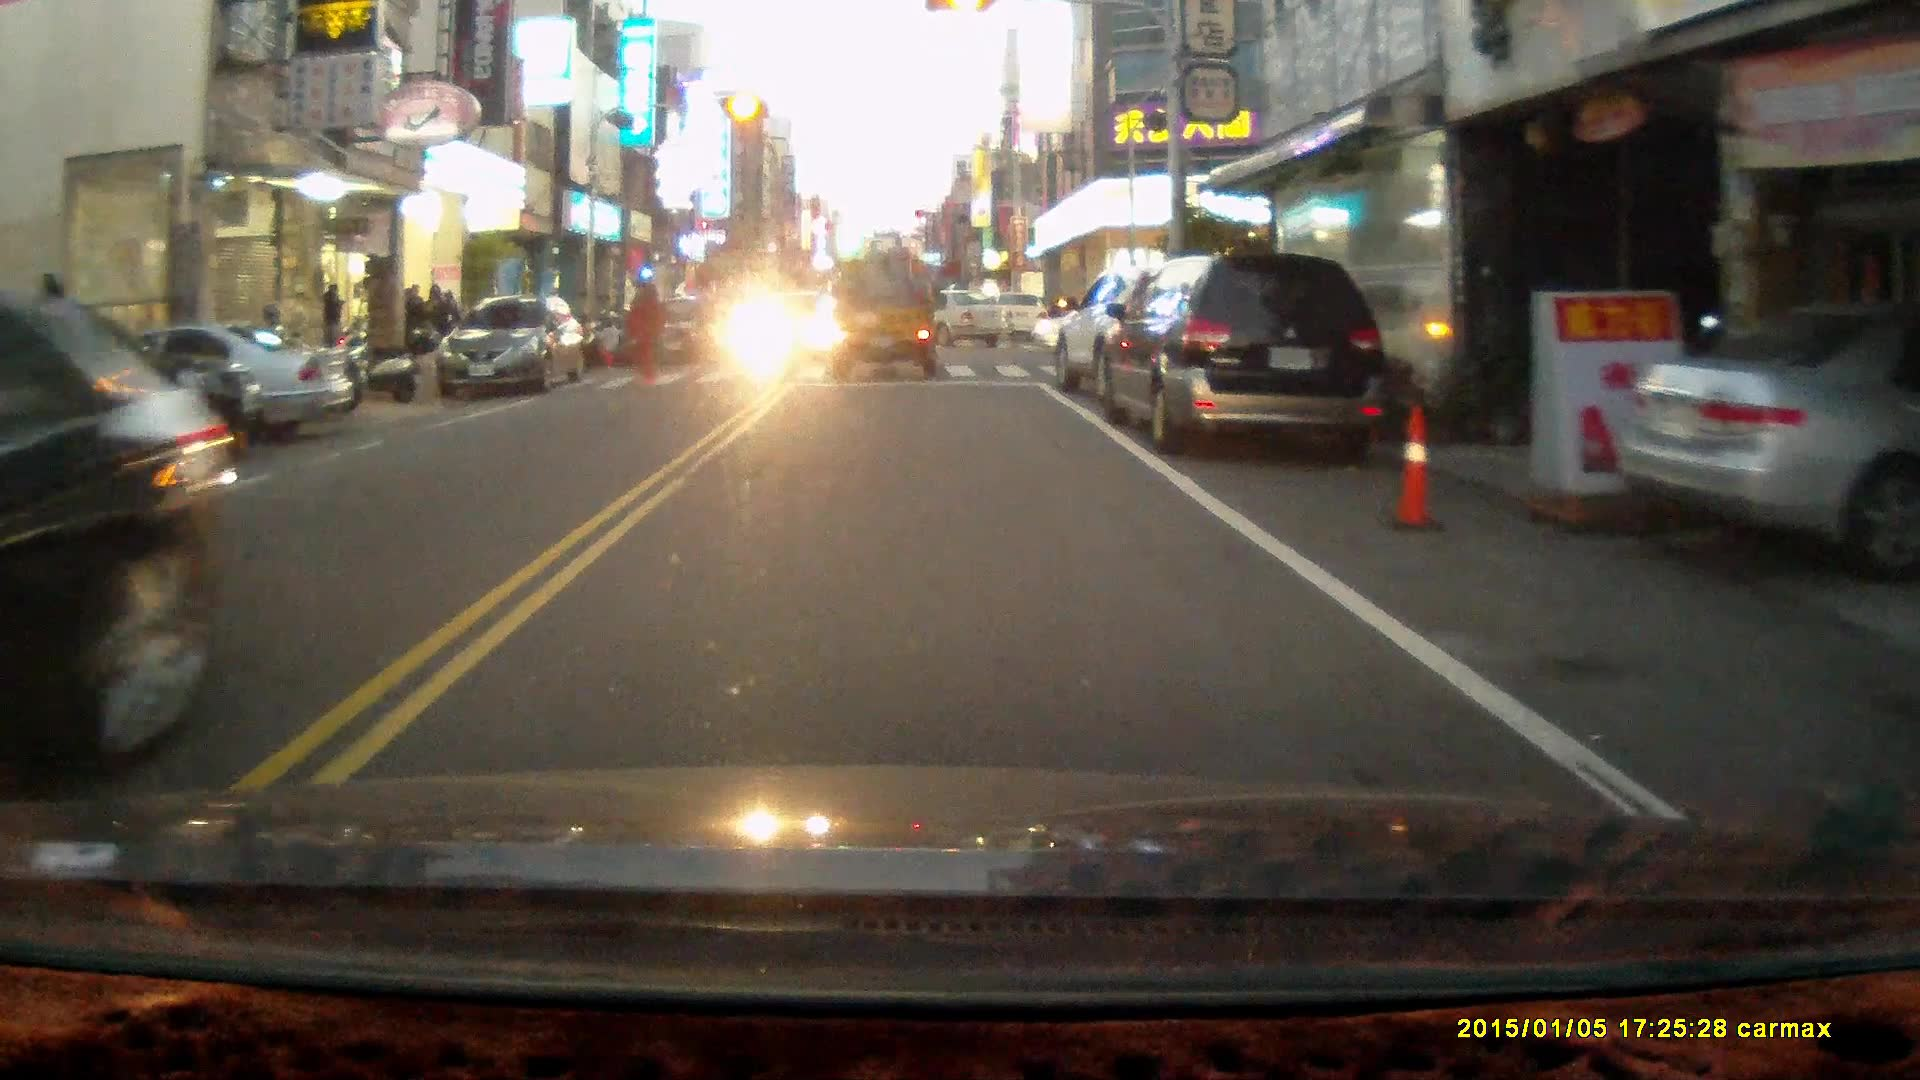pedestrian: (623, 280, 656, 386), (316, 280, 345, 363), (595, 318, 621, 373)
vehicle: (1, 317, 230, 806), (1619, 313, 1920, 544), (1094, 250, 1385, 457), (1, 296, 263, 465), (40, 326, 354, 443), (1052, 269, 1256, 419), (820, 236, 945, 385), (447, 300, 589, 401), (876, 293, 1015, 352), (636, 297, 730, 364)
